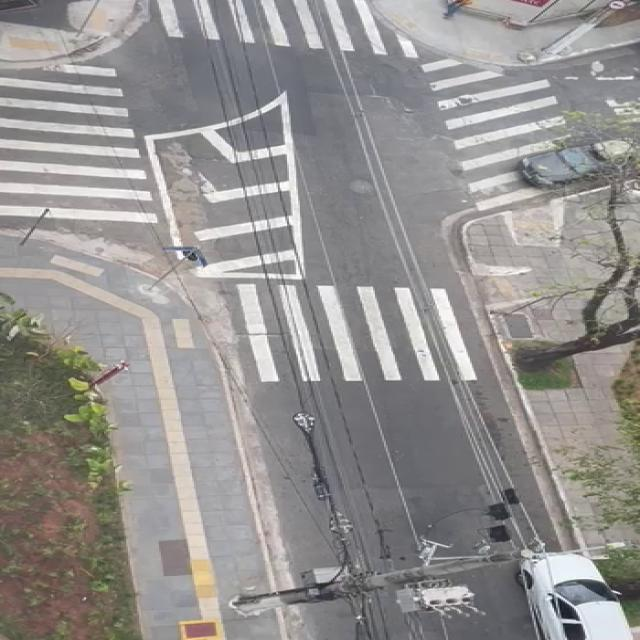car: (501, 546, 640, 640), (512, 136, 630, 194)
